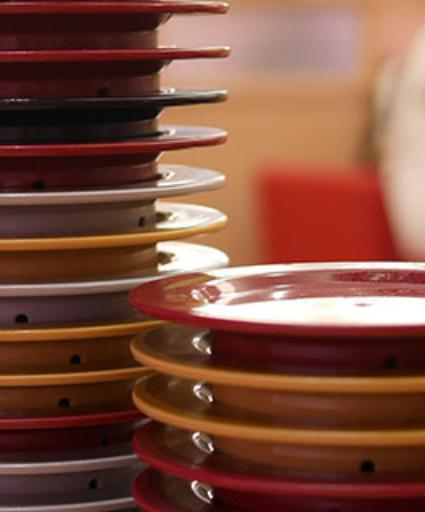Janback: (0, 96, 186, 134)
Jangold: (161, 358, 425, 395), (0, 234, 165, 280), (177, 414, 425, 443), (0, 365, 139, 394), (0, 325, 123, 355)
Janred: (153, 281, 425, 326), (0, 45, 235, 83), (0, 3, 238, 40), (168, 476, 425, 508), (0, 136, 222, 162), (0, 410, 130, 443)
Janwhite: (0, 189, 210, 227), (0, 274, 126, 315), (0, 458, 117, 496), (0, 501, 112, 512)
